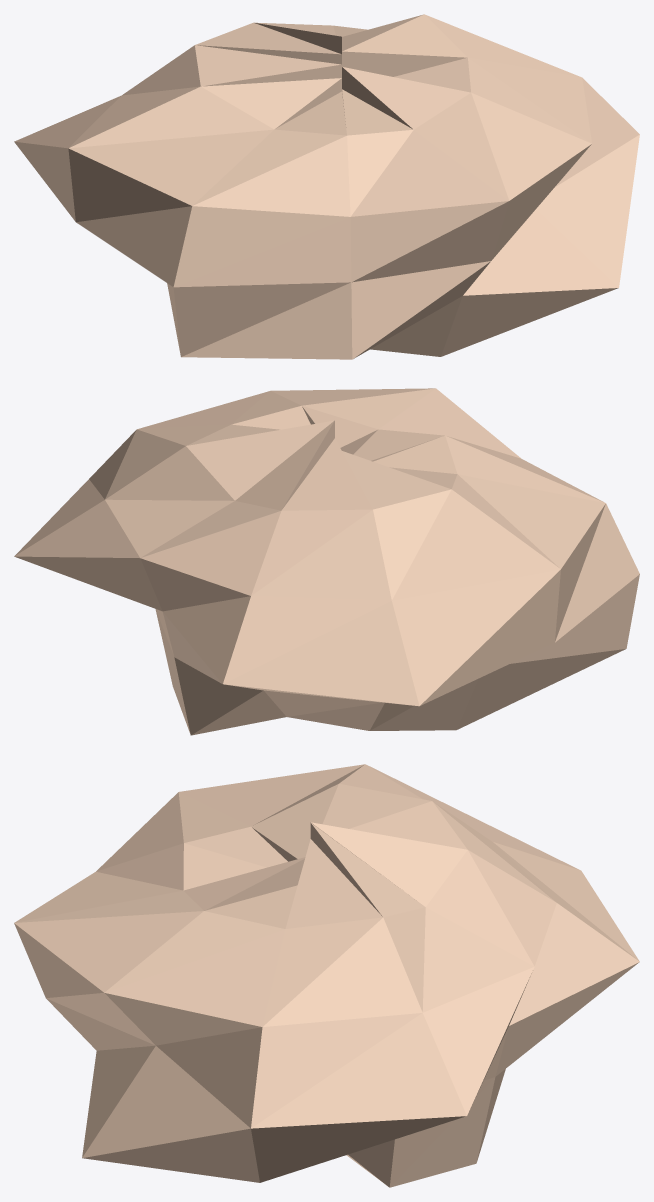
The model's file is rock_002.obj.
The picture shows the model from 3 angles, top to bottom: view 1: azimuth 30°, elevation 25°; view 2: azimuth 150°, elevation 25°; view 3: azimuth 270°, elevation 25°; orthographic projection. The views are drawn at different scales.
Bounding box in the file's own units: 0.8305 × 0.4482 × 0.7813.
